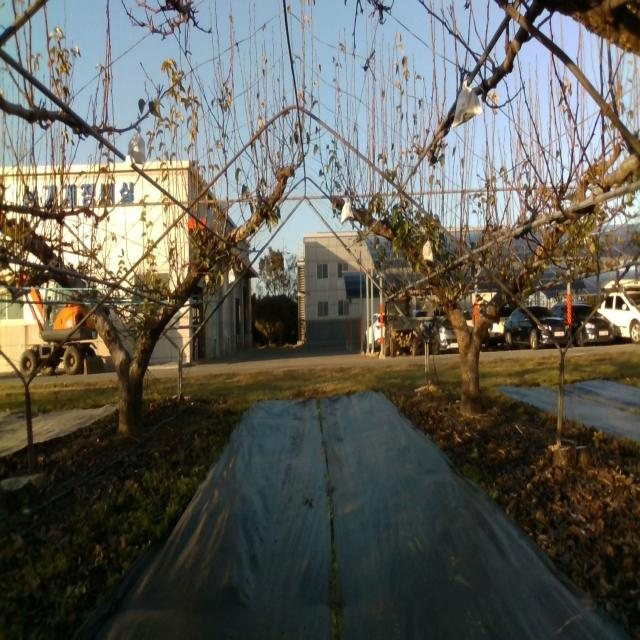pearbags: (452, 80, 484, 130), (124, 125, 148, 167), (341, 202, 355, 225), (423, 238, 434, 263)
